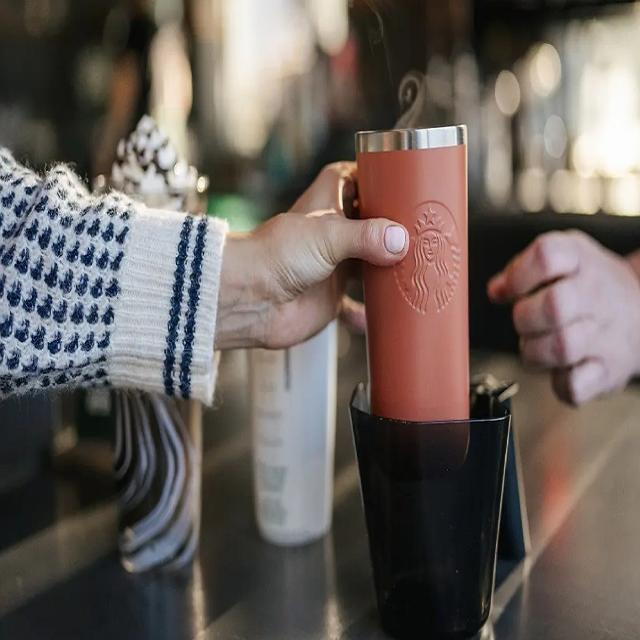starbucks: (392, 199, 461, 319)
